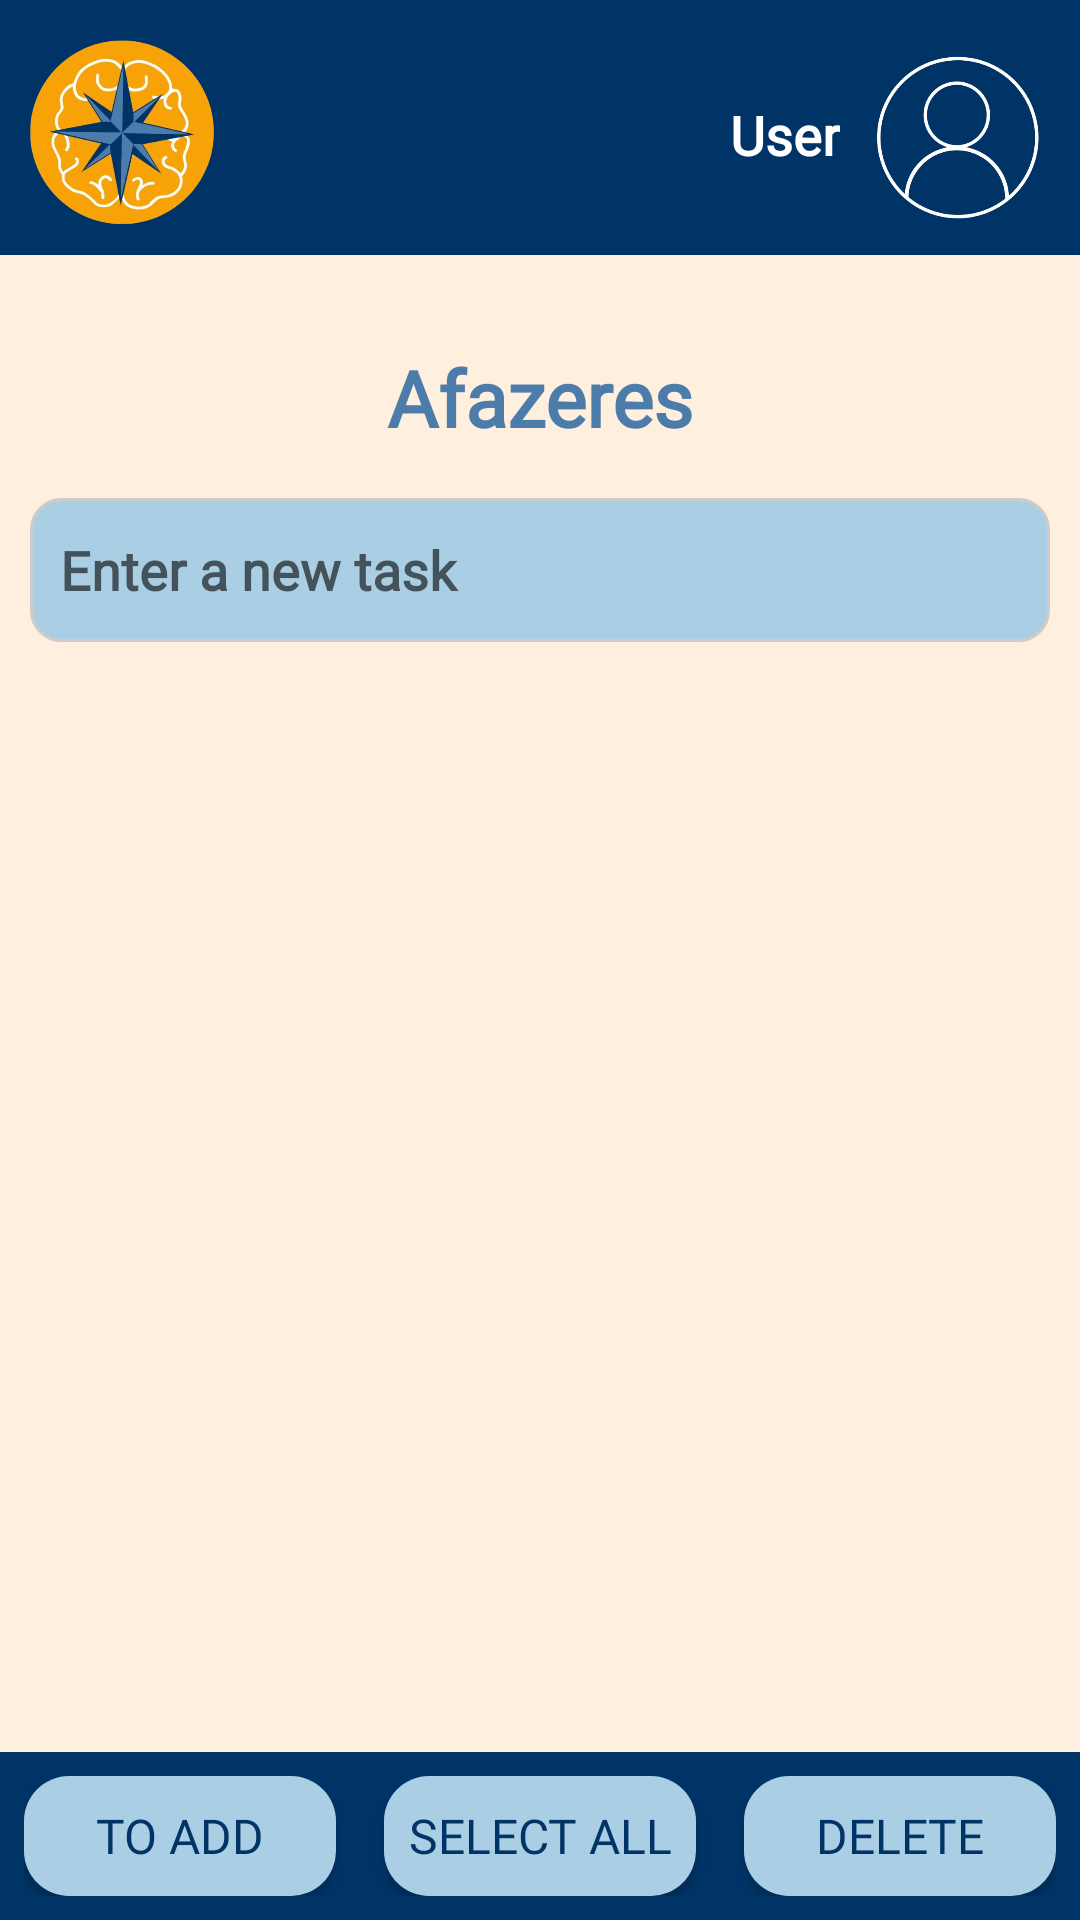

Named icons in this screenshot (1080 x 1920) and their centers, (x,y):
perfil: (958,138)
